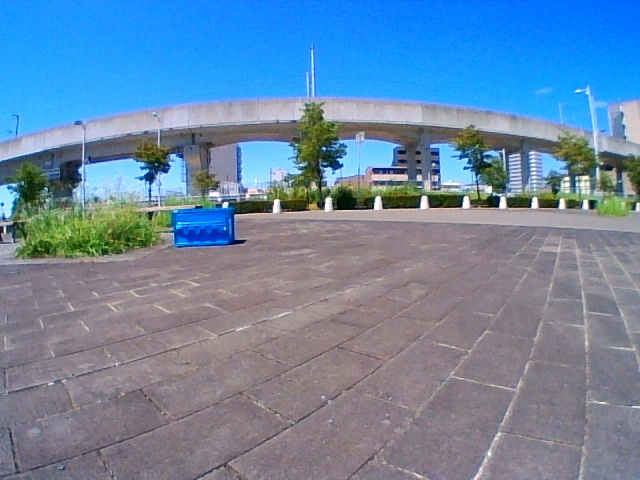blue_box: (174, 210, 234, 244)
tag: (229, 218, 232, 235)
